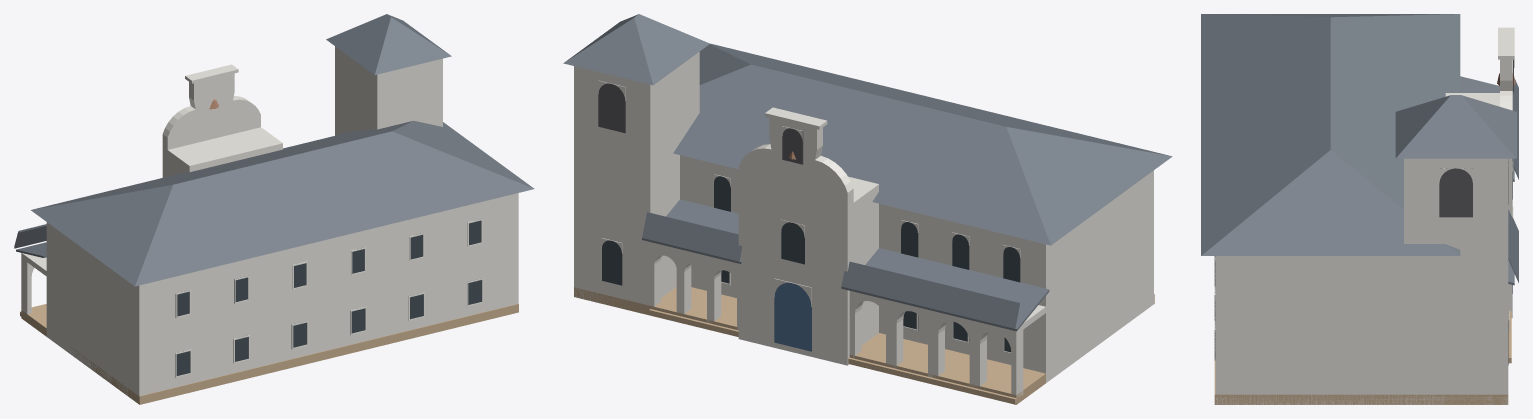
The model's file is ca_college.glb.
The picture shows the model from 3 angles, left to right: view 1: azimuth 30°, elevation 25°; view 2: azimuth 150°, elevation 25°; view 3: azimuth 270°, elevation 25°; orthographic projection. The views are drawn at different scales.
Visible parts, largest first — view 1: ca_college; view 2: ca_college; view 3: ca_college.
Boxes of the visible parts, box(x1,y1,x2,y2) form: ca_college: box(14, 14, 534, 404); ca_college: box(563, 14, 1172, 404); ca_college: box(1201, 14, 1518, 404).
Size of the model in its own units: 27.4 by 15.3 by 15.2.
